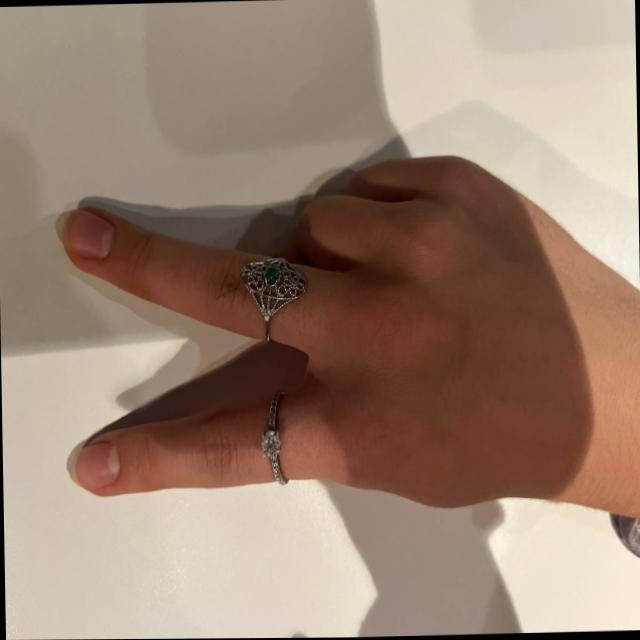l: (32, 103, 520, 532)
